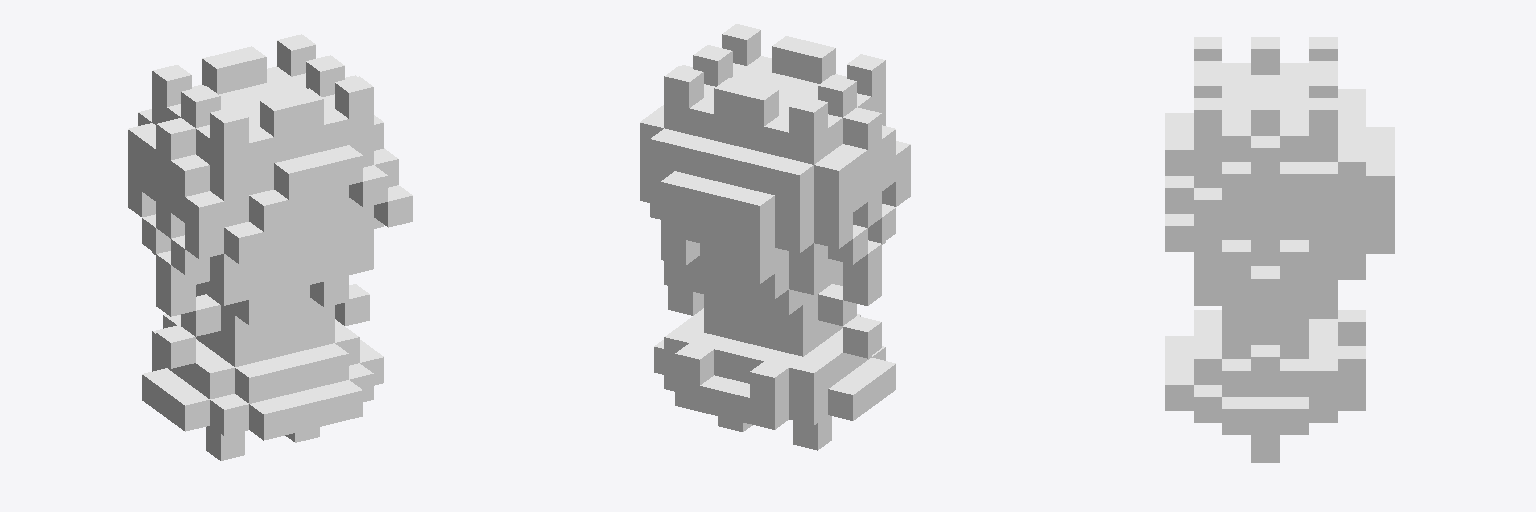
The model's file is chr_Princess.obj.
3 renders of one model, left to right at view 1: azimuth 30°, elevation 25°; view 2: azimuth 150°, elevation 25°; view 3: azimuth 270°, elevation 25°, orthographic.
Visible parts, largest first — view 1: chr_Princess; view 2: chr_Princess; view 3: chr_Princess.
Part boxes in pixels (x1,y1,x2,y2): chr_Princess: (128,34,412,460); chr_Princess: (640,24,910,450); chr_Princess: (1165,37,1394,462).
Bounding box in the file's own units: 8 × 14 × 8.